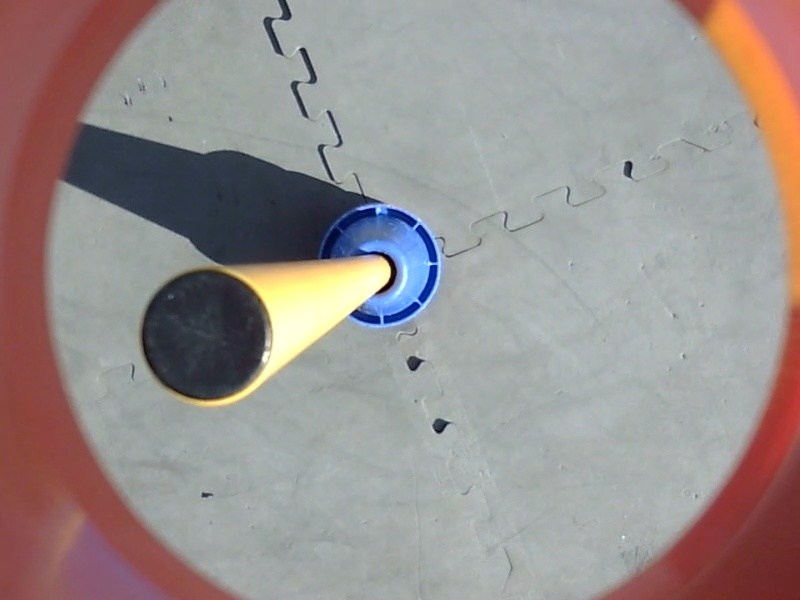tip: (136, 261, 286, 411)
